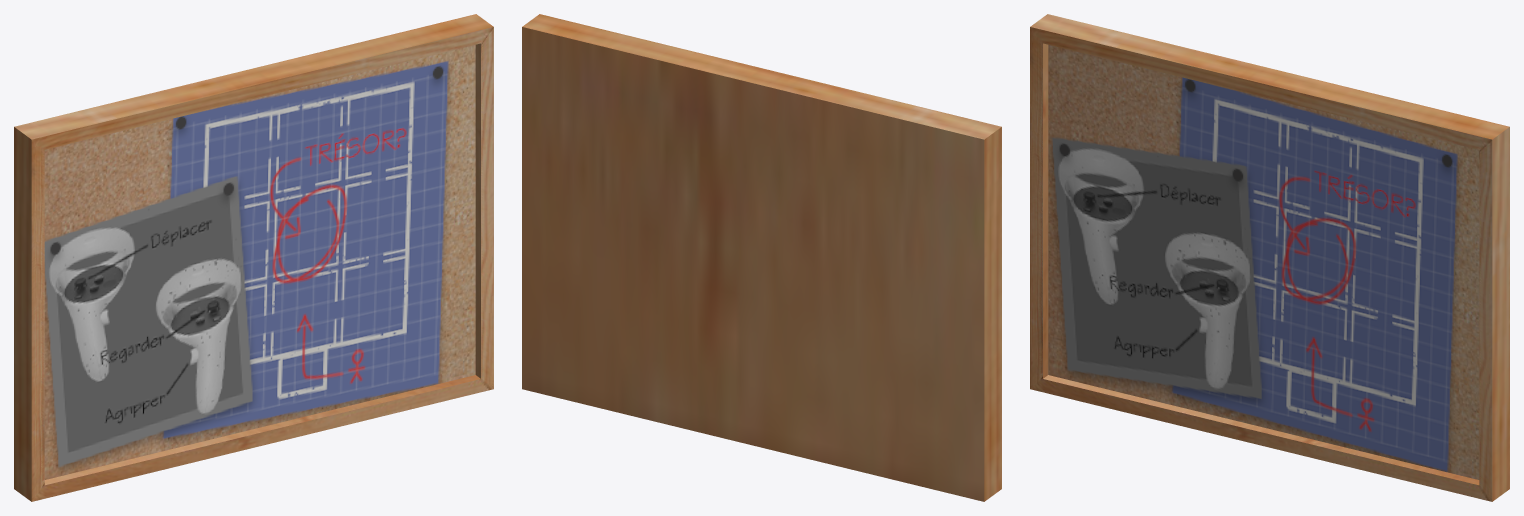
Rendered from Plans.fbx.
3 renders of one model, left to right at view 1: azimuth 30°, elevation 25°; view 2: azimuth 150°, elevation 25°; view 3: azimuth 330°, elevation 25°, orthographic.
Parts seen in each view (by area): view 1: Cube; view 2: Cube; view 3: Cube.
Boxes of the visible parts, x1=… form: Cube: x1=14, y1=14, x2=493, y2=501; Cube: x1=522, y1=14, x2=1001, y2=501; Cube: x1=1030, y1=14, x2=1509, y2=501.
Size of the model in its own units: 488 by 365 by 32.17.
